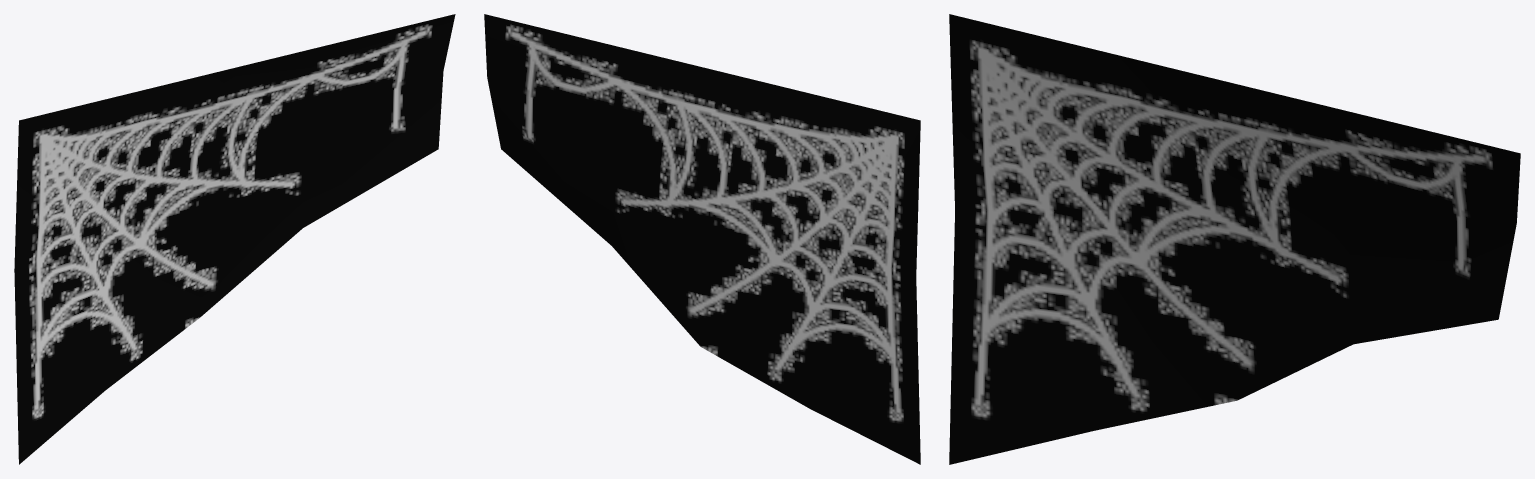
File: SM_Cobwebs_01.fbx
The picture shows the model from 3 angles, left to right: view 1: azimuth 30°, elevation 25°; view 2: azimuth 150°, elevation 25°; view 3: azimuth 330°, elevation 25°; orthographic projection. The views are drawn at different scales.
Parts seen in each view (by area): view 1: SM_Cobwebs_01; view 2: SM_Cobwebs_01; view 3: SM_Cobwebs_01.
Boxes of the visible parts, x1,y1,x2,y2 form: SM_Cobwebs_01: (14, 14, 455, 464); SM_Cobwebs_01: (484, 14, 920, 464); SM_Cobwebs_01: (949, 14, 1520, 464).
Bounding box in the file's own units: 68.22 × 51.43 × 5.33.
Materials: 1 (1 with a texture image).
